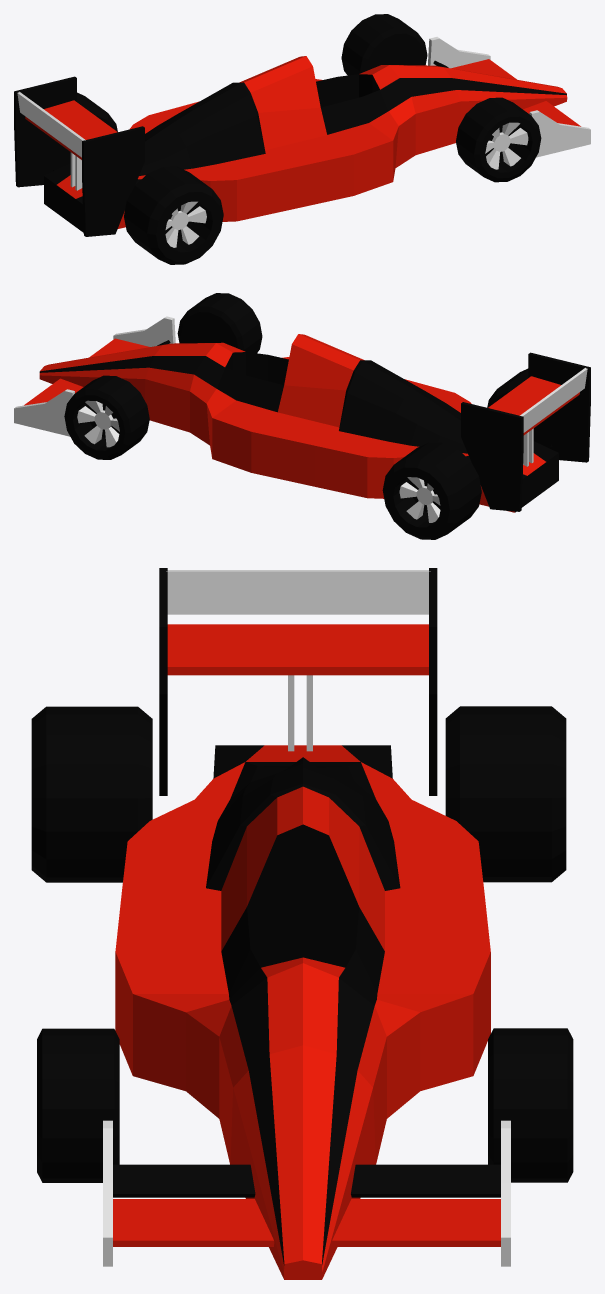
File: Formula.fbx
The picture shows the model from 3 angles, top to bottom: view 1: azimuth 30°, elevation 25°; view 2: azimuth 150°, elevation 25°; view 3: azimuth 270°, elevation 25°; orthographic projection. The views are drawn at different scales.
Visible parts, largest first — view 1: Cube, RearSpoiler, RR, FR, FL, FrontSpoiler, RL; view 2: Cube, RearSpoiler, RL, FL, FrontSpoiler, FR, RR; view 3: Cube, RearSpoiler, FrontSpoiler, RR, RL, FL, FR.
Boxes of the visible parts, x1=… form: Cube: x1=44, y1=56, x2=567, y2=232; RearSpoiler: x1=14, y1=76, x2=144, y2=236; RR: x1=124, y1=166, x2=223, y2=264; FR: x1=456, y1=97, x2=541, y2=182; FL: x1=341, y1=14, x2=427, y2=75; FrontSpoiler: x1=428, y1=37, x2=590, y2=157; RL: x1=53, y1=92, x2=117, y2=171; Cube: x1=39, y1=334, x2=558, y2=512; RearSpoiler: x1=461, y1=352, x2=590, y2=511; RL: x1=382, y1=442, x2=481, y2=539; FL: x1=64, y1=375, x2=149, y2=459; FrontSpoiler: x1=14, y1=316, x2=175, y2=436; FR: x1=177, y1=293, x2=262, y2=353; RR: x1=487, y1=368, x2=553, y2=450; Cube: x1=115, y1=745, x2=490, y2=1279; RearSpoiler: x1=159, y1=568, x2=437, y2=795; FrontSpoiler: x1=103, y1=1120, x2=510, y2=1266; RR: x1=31, y1=706, x2=152, y2=882; RL: x1=445, y1=706, x2=566, y2=882; FL: x1=488, y1=1028, x2=573, y2=1182; FR: x1=37, y1=1028, x2=119, y2=1182.
Size of the model in its own units: 453 by 986 by 217.
